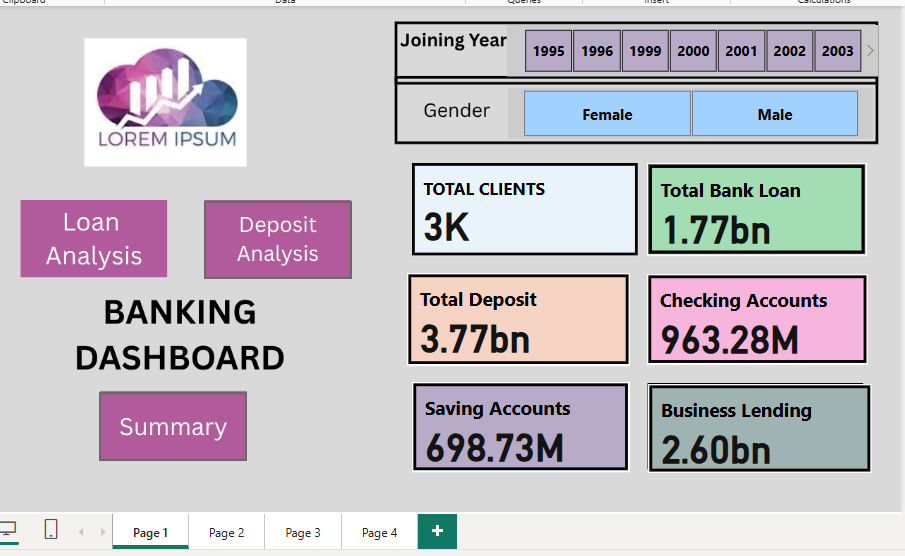

The page's visual inventory and layout, read from the dashboard file:
{"tool":"powerbi","page":{"name":"Page 1","canvas":[1280,720],"ordinal":0},"visuals":[{"type":"cardVisual","fields":{"Data":["banking-clients.Name"]},"box":[586.8,222.5,320.3,131.8],"z":0},{"type":"slicer","fields":{"Values":["banking-clients.GenderId"]},"box":[722.8,116.2,517.3,72.3],"z":1000},{"type":"cardVisual","fields":{"Data":["banking-clients.Bank Loans"]},"box":[919.8,222.5,311.8,131.8],"z":2000},{"type":"cardVisual","fields":{"Data":["banking-clients.Total Deposit"]},"box":[579.7,378.4,316.1,131.8],"z":3000},{"type":"cardVisual","fields":{"Data":["banking-clients.Checking Accounts"]},"box":[919.8,379.8,313.2,129],"z":4000},{"type":"cardVisual","fields":{"Data":["banking-clients.Saving Accounts"]},"box":[586.8,532.9,309,127.6],"z":5000},{"type":"cardVisual","fields":{"Data":["banking-clients.Business Lending"]},"box":[921.3,535.7,317.5,126.1],"z":6000},{"type":"slicer","fields":{"Values":["banking-clients.Year of Joinings"]},"box":[720.8,27.2,526.3,72.9],"z":7000},{"type":"actionButton","box":[26.9,273.5,215.4,113.4],"z":8000},{"type":"actionButton","box":[292,276.4,209.8,110.6],"z":9000},{"type":"actionButton","box":[143.1,547.1,209.8,97.8],"z":10000}]}

Visuals, with their boxes in screenshot pixels (x1, y1, x2, y2):
cardVisual - banking-clients.Name: 412 162 635 254
slicer - banking-clients.GenderId: 506 88 867 139
cardVisual - banking-clients.Bank Loans: 644 162 861 254
cardVisual - banking-clients.Total Deposit: 407 271 627 363
cardVisual - banking-clients.Checking Accounts: 644 272 862 362
cardVisual - banking-clients.Saving Accounts: 412 379 627 468
cardVisual - banking-clients.Business Lending: 645 381 866 469
slicer - banking-clients.Year of Joinings: 505 26 872 77
actionButton: 21 198 171 277
actionButton: 206 200 352 277
actionButton: 102 389 248 457
